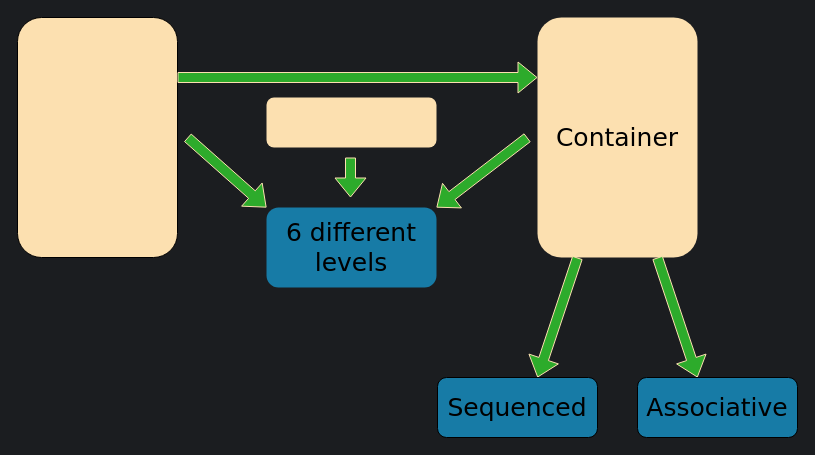
Image size: 815x455. Some labels were removed from this diagram. The centre of each missing label's shape, as x and y in pixels:
"Algorithms" belongs at point (97, 137).
"Iterators" belongs at point (351, 122).
